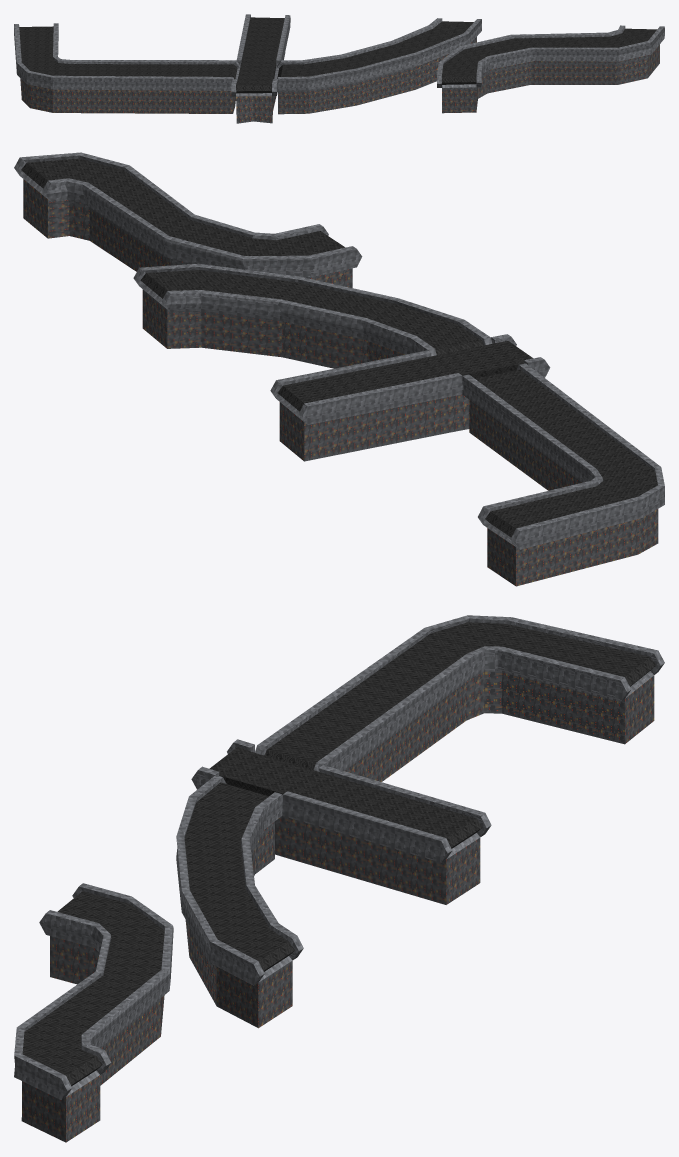
Rendered from SpecificConveyorBelt.fbx.
The picture shows the model from 3 angles, top to bottom: view 1: azimuth 30°, elevation 25°; view 2: azimuth 150°, elevation 25°; view 3: azimuth 270°, elevation 25°; orthographic projection. The views are drawn at different scales.
Visible parts, largest first — view 1: conveyor.003; view 2: conveyor.003; view 3: conveyor.003.
Boxes of the visible parts, x1,y1,x2,y2 form: conveyor.003: [14, 14, 664, 123]; conveyor.003: [14, 152, 664, 586]; conveyor.003: [14, 615, 664, 1142].
Size of the model in its own units: 6217 by 418 by 3676.
